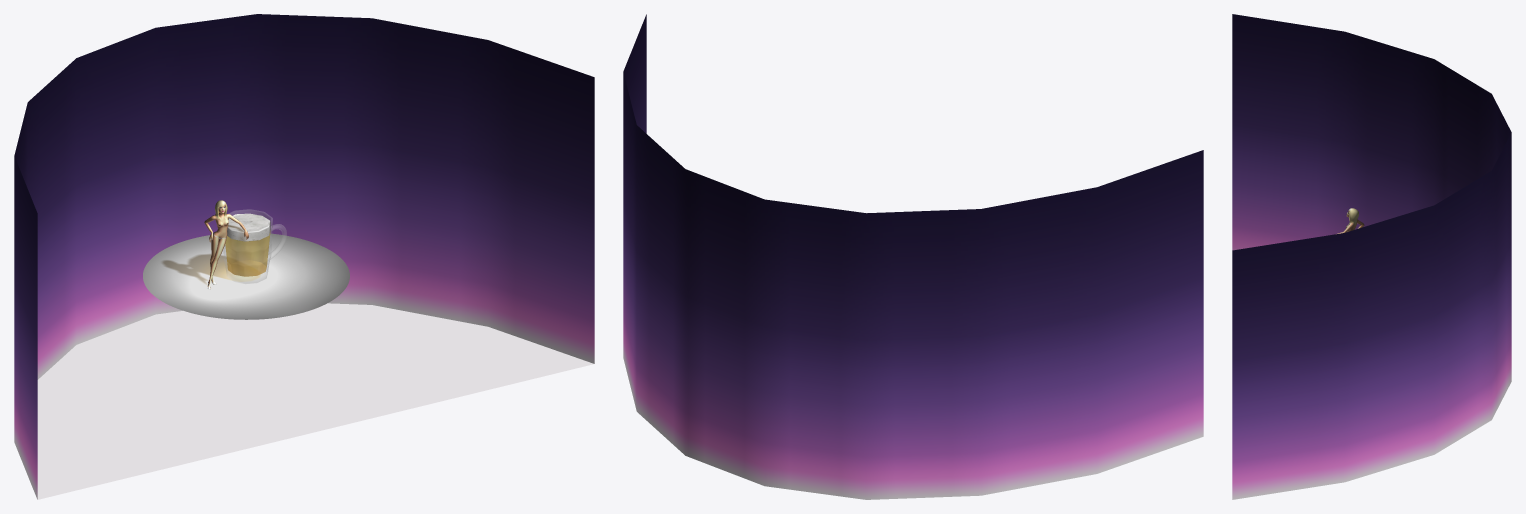
File: beer1.fbx
The picture shows the model from 3 angles, left to right: view 1: azimuth 30°, elevation 25°; view 2: azimuth 150°, elevation 25°; view 3: azimuth 270°, elevation 25°; orthographic projection. The views are drawn at different scales.
Parts seen in each view (by area): view 1: back, alphaG, addENV, trans, BlondeNaked_Mesh, foom; view 2: back; view 3: back.
Part boxes in pixels (left/top/right/bottom): back: left=14, top=14, right=594, bottom=499; alphaG: left=143, top=233, right=349, bottom=319; addENV: left=223, top=209, right=286, bottom=283; trans: left=225, top=231, right=270, bottom=276; BlondeNaked_Mesh: left=204, top=200, right=248, bottom=289; foom: left=227, top=213, right=270, bottom=241; back: left=623, top=14, right=1203, bottom=499; back: left=1232, top=14, right=1511, bottom=499.
Bounding box in the file's own units: 1275 × 627 × 636.
6 materials, 5 textured.
